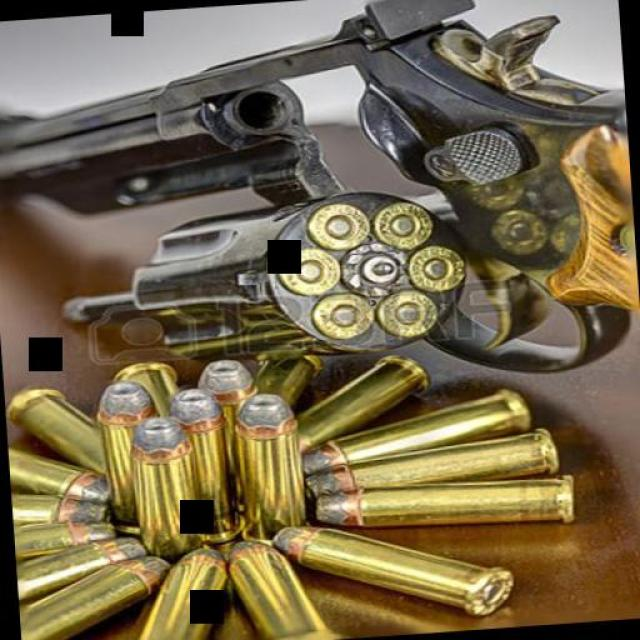gun: (0, 0, 638, 406)
